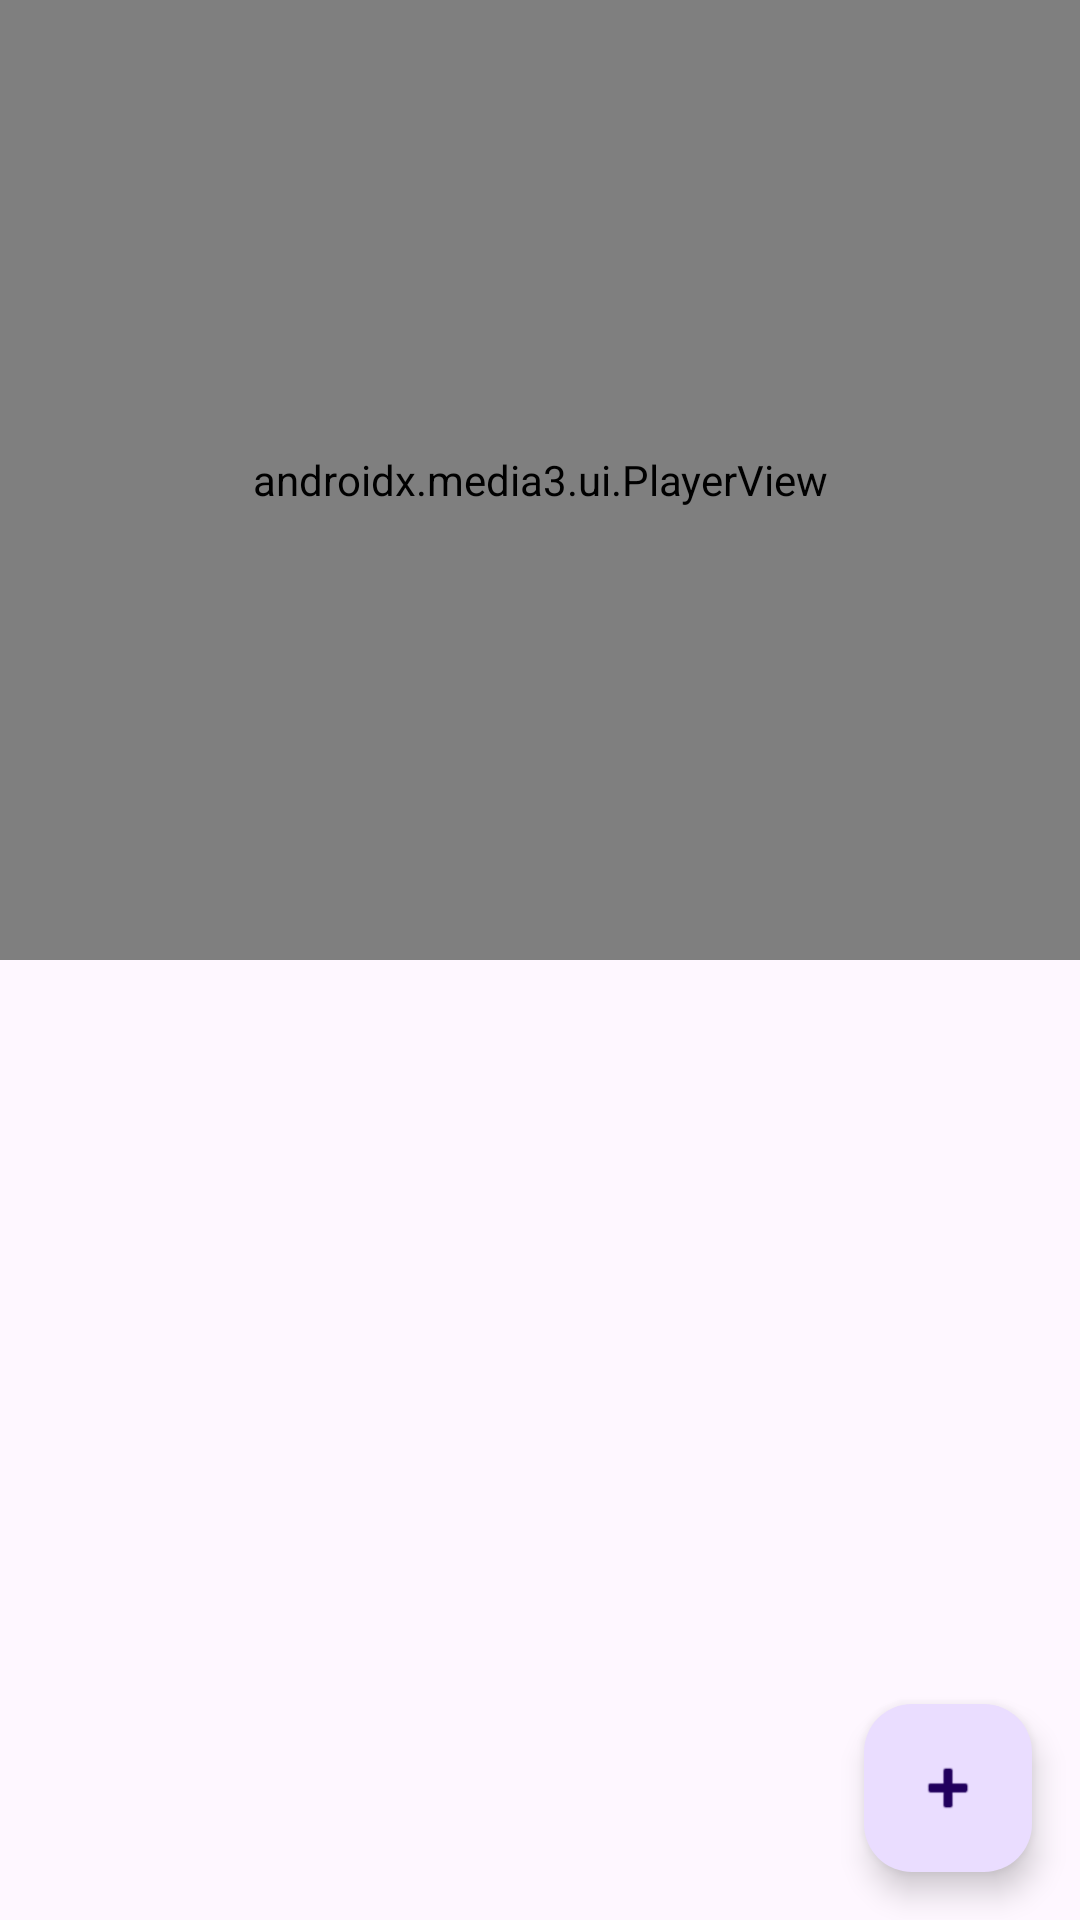

Named icons in this screenshot (1080px x 1920px) and their bounding boxes, (x1, y1, x2, y2):
Add Channel: (864, 1704, 1032, 1872)
